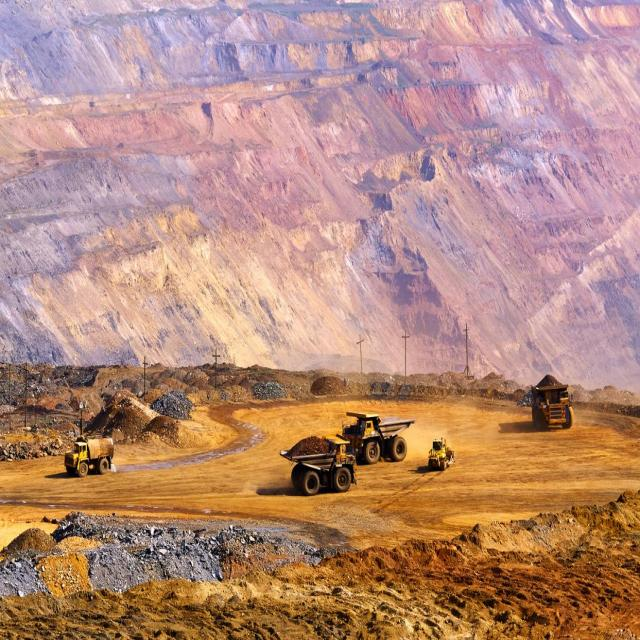Bulldozer: (421, 436, 463, 476)
Dump Truck: (283, 428, 364, 504), (340, 399, 410, 469), (520, 370, 578, 434), (61, 425, 119, 487)
